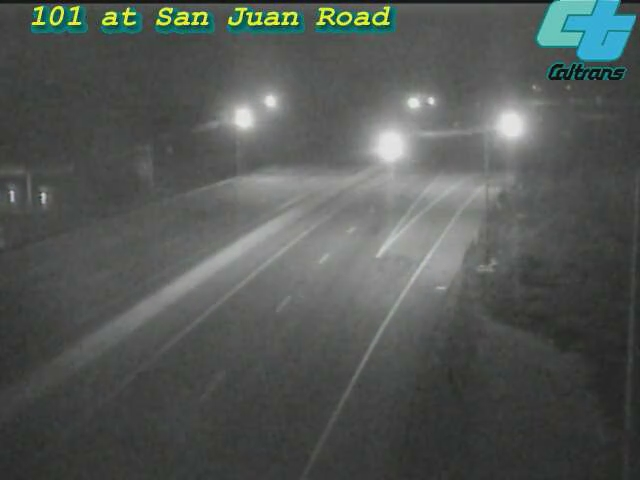vehicle: (360, 120, 410, 170), (479, 100, 529, 150)
